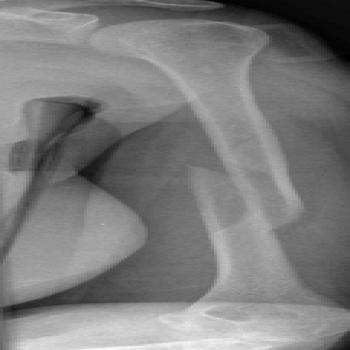Fracture: (203, 203, 332, 234), (182, 158, 282, 182)
